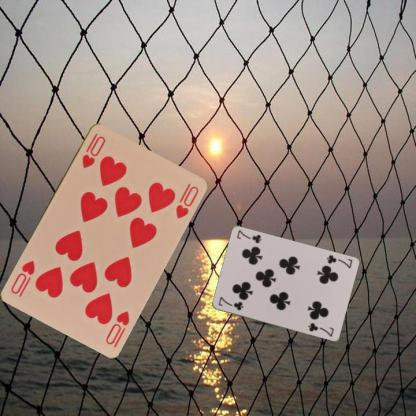10h: (79, 130, 107, 169), (102, 308, 130, 346)
7c: (216, 294, 245, 312), (324, 252, 353, 270)
